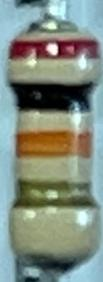Black: (7, 81, 99, 115)
Orange: (11, 130, 97, 162)
Red: (8, 38, 101, 62)
Side-Gold: (15, 180, 99, 214)
